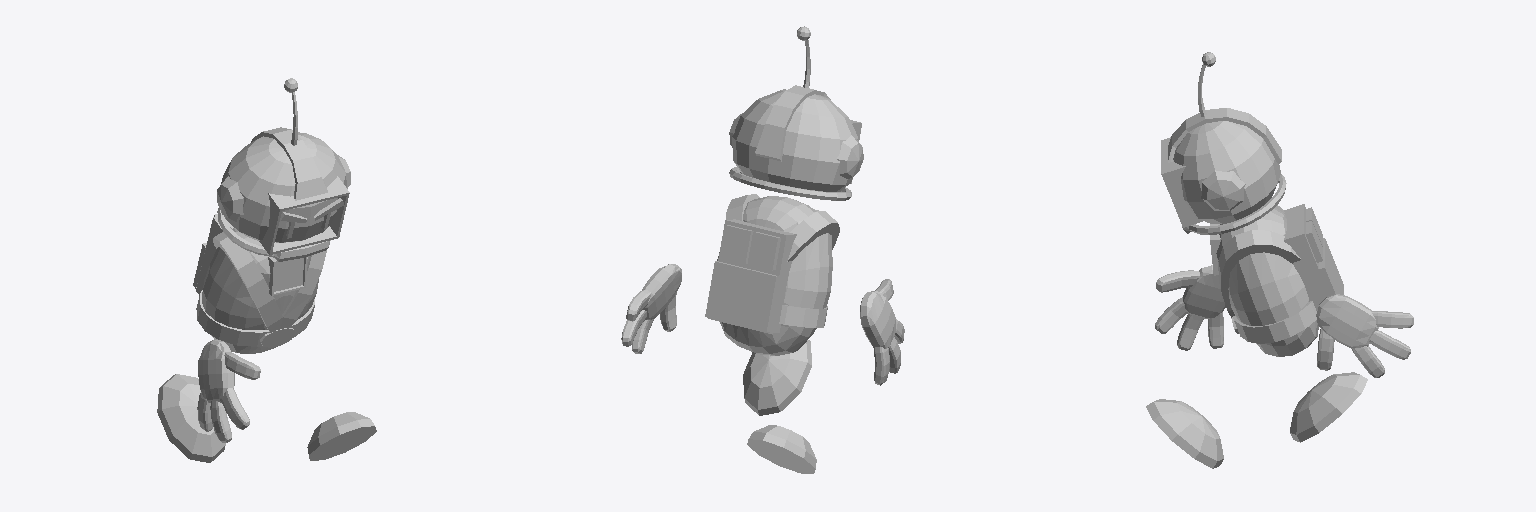
Rendered from BomberMan.obj.
3 views of the same model, side by side, from view 1: azimuth 30°, elevation 25°; view 2: azimuth 150°, elevation 25°; view 3: azimuth 270°, elevation 25° (orthographic).
Parts seen in each view (by area): view 1: BM_Head, BM_BODY, R_Hand, R_Foot, L_Foot; view 2: BM_BODY, BM_Head, L_Foot, L_Hand, R_Hand, R_Foot; view 3: BM_BODY, BM_Head, L_Hand, R_Hand, R_Foot, L_Foot.
Part boxes in pixels (left/top/right/bottom): BM_Head: left=217, top=127, right=350, bottom=261; BM_BODY: left=193, top=214, right=326, bottom=353; R_Hand: left=197, top=340, right=260, bottom=442; R_Foot: left=157, top=374, right=225, bottom=462; L_Foot: left=307, top=412, right=376, bottom=460; BM_BODY: left=705, top=194, right=839, bottom=355; BM_Head: left=729, top=85, right=863, bottom=200; L_Foot: left=743, top=340, right=811, bottom=415; L_Hand: left=621, top=264, right=681, bottom=353; R_Hand: left=860, top=279, right=904, bottom=385; R_Foot: left=747, top=425, right=816, bottom=473; BM_BODY: left=1210, top=204, right=1343, bottom=356; BM_Head: left=1161, top=108, right=1286, bottom=234; L_Hand: left=1316, top=294, right=1413, bottom=377; R_Hand: left=1155, top=265, right=1225, bottom=350; R_Foot: left=1290, top=372, right=1367, bottom=442; L_Foot: left=1146, top=399, right=1223, bottom=468.
Size of the model in its own units: 91.22 by 201 by 121.